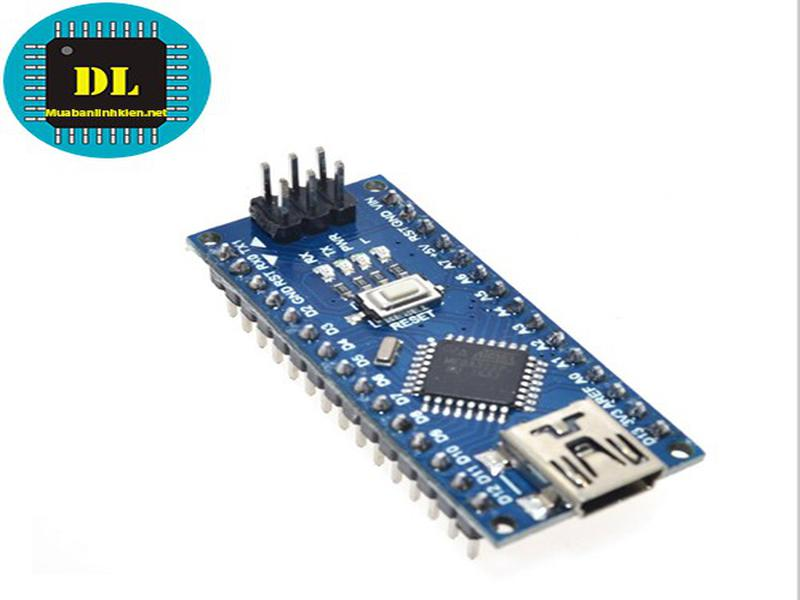Arduino_Nano: (169, 152, 713, 571)
